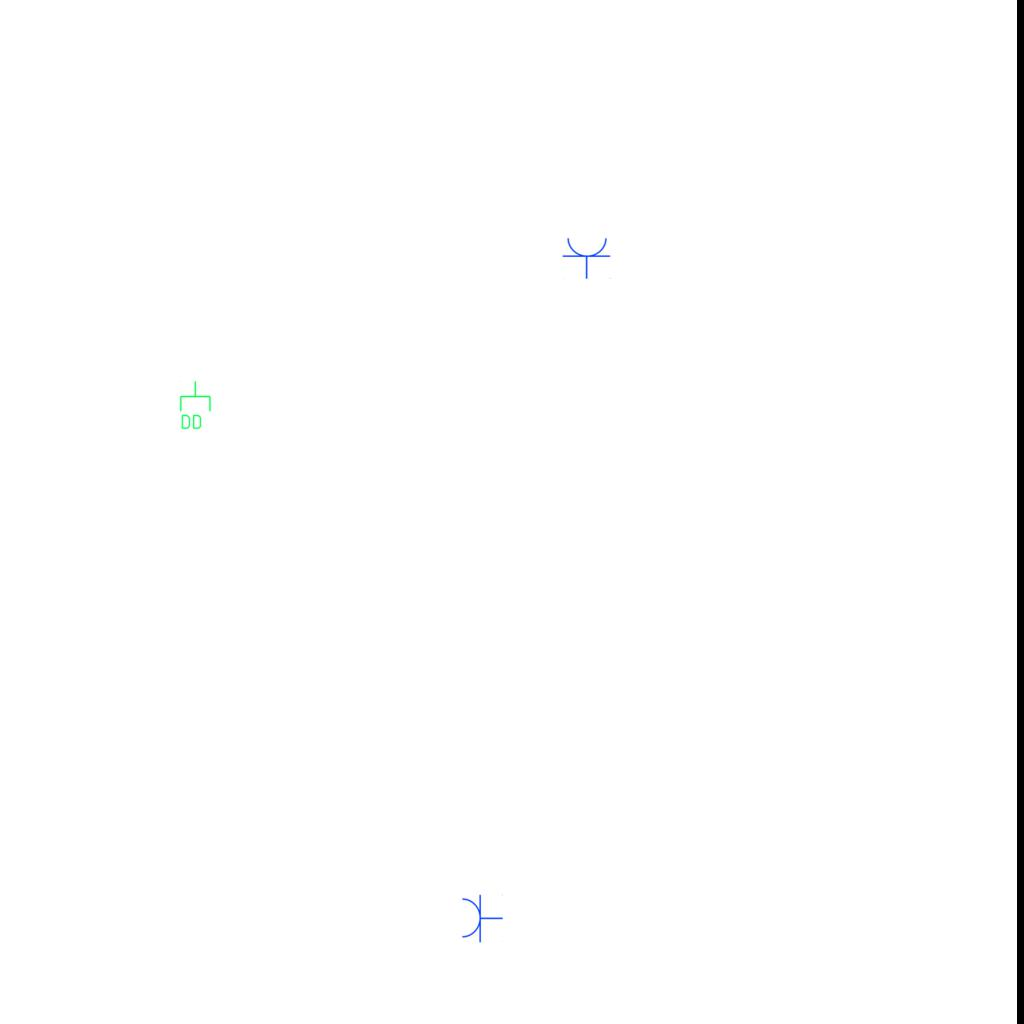Datenanschluss_zweifach: (178, 380, 212, 431)
Schukosteckdose_einfach: (562, 236, 612, 279), (460, 893, 503, 943)
